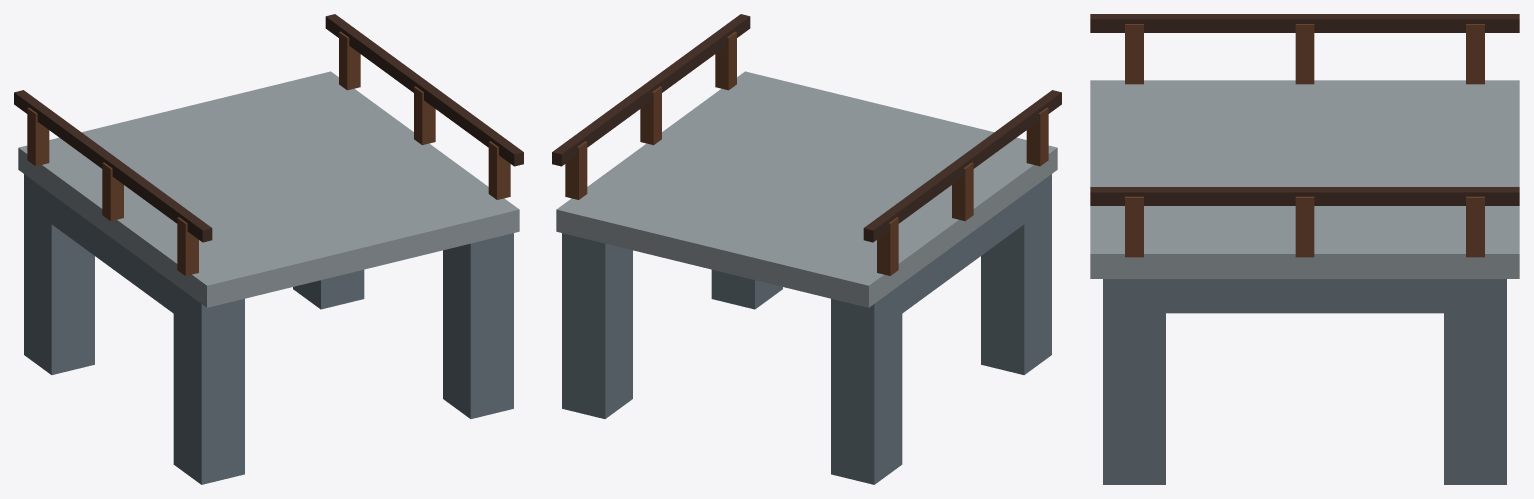
File: Blockland_TerraceBridge_Simple.glb
3 views of the same model, side by side, from view 1: azimuth 30°, elevation 25°; view 2: azimuth 150°, elevation 25°; view 3: azimuth 270°, elevation 25° (orthographic). The views are drawn at different scales.
Visible parts, largest first — view 1: Blockland_TerraceBridge_Simple; view 2: Blockland_TerraceBridge_Simple; view 3: Blockland_TerraceBridge_Simple.
Part boxes in pixels (x1=…): Blockland_TerraceBridge_Simple: x1=14, y1=14, x2=523, y2=484; Blockland_TerraceBridge_Simple: x1=552, y1=14, x2=1061, y2=484; Blockland_TerraceBridge_Simple: x1=1090, y1=14, x2=1519, y2=484.
Size of the model in its own units: 3.38 by 2.58 by 3.4.
